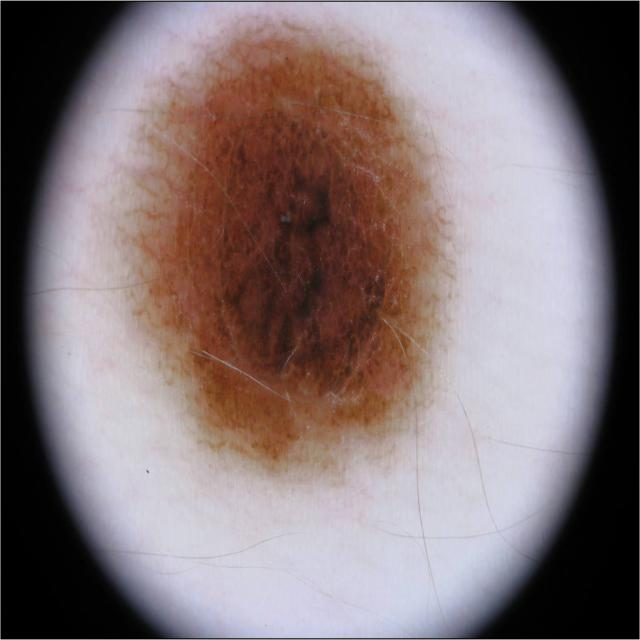Benign: (125, 21, 457, 482)
